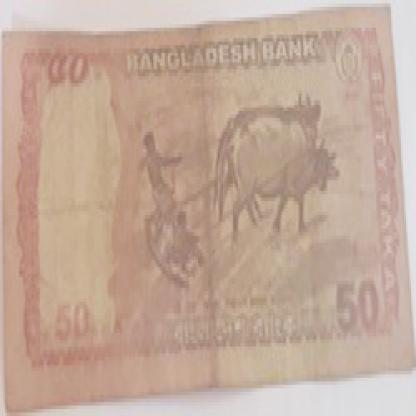Fifty taka: (326, 260, 398, 350), (30, 42, 100, 114)
